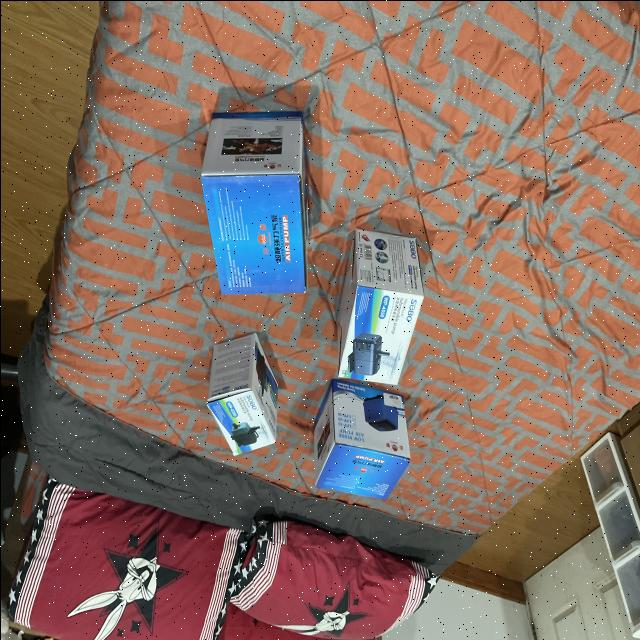SOBO_WP_4200: (328, 221, 428, 393), (202, 322, 284, 466)
YAMANO_LPP_20: (190, 106, 320, 314), (300, 371, 412, 534)
